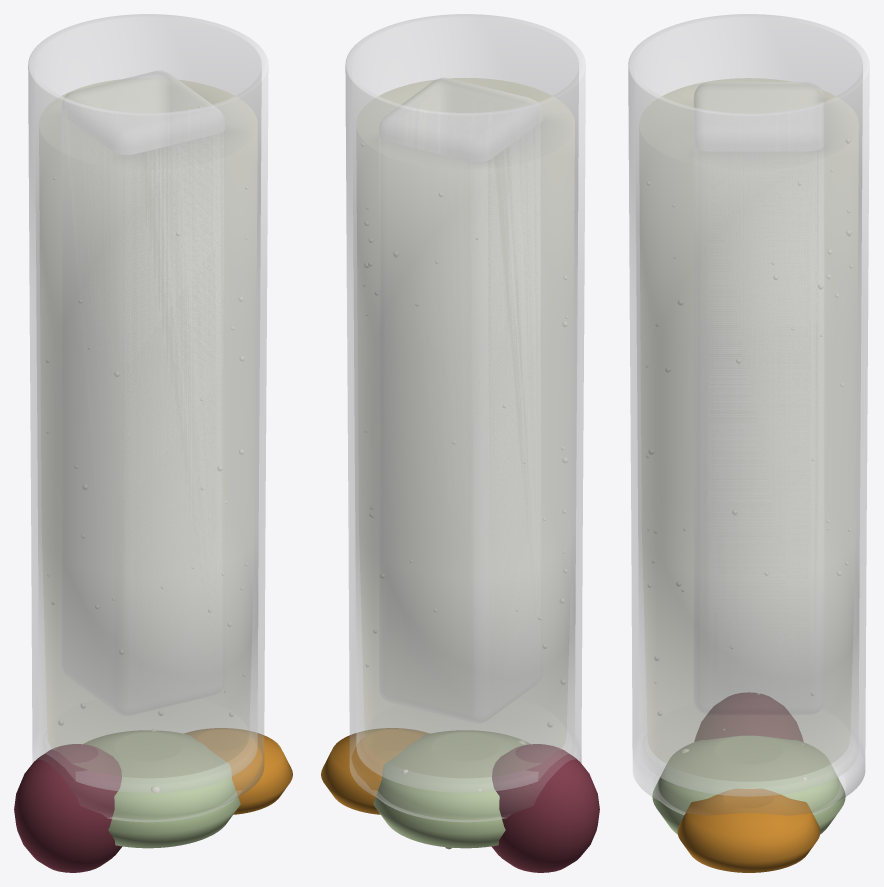
The model's file is somma-pine-highball.glb.
3 renders of one model, left to right at view 1: azimuth 30°, elevation 25°; view 2: azimuth 150°, elevation 25°; view 3: azimuth 270°, elevation 25°, orthographic.
Parts seen in each view (by area): view 1: glass, liquid, recipe_fizz, recipe_plum, ice, recipe_orange_bitters; view 2: glass, liquid, recipe_fizz, recipe_plum, ice, recipe_orange_bitters; view 3: glass, liquid, recipe_fizz, recipe_orange_bitters, ice, recipe_plum, serving_fine_bubbles.
Part boxes in pixels (x1,y1,x2,y2): glass: (28, 14, 268, 821); liquid: (39, 78, 257, 777); recipe_fizz: (84, 730, 240, 848); recipe_plum: (14, 744, 122, 872); ice: (62, 70, 224, 154); recipe_orange_bitters: (185, 728, 292, 814); glass: (345, 14, 585, 821); liquid: (356, 78, 574, 777); recipe_fizz: (373, 730, 529, 848); recipe_plum: (491, 744, 599, 872); ice: (379, 78, 542, 162); recipe_orange_bitters: (321, 728, 428, 814); glass: (628, 14, 869, 815); liquid: (639, 78, 858, 781); recipe_fizz: (652, 736, 845, 834); recipe_orange_bitters: (677, 788, 820, 872); ice: (694, 82, 823, 151); recipe_plum: (694, 692, 803, 741); serving_fine_bubbles: (646, 139, 852, 731).
Size of the model in its own units: 1.07 by 3.07 by 0.85.
